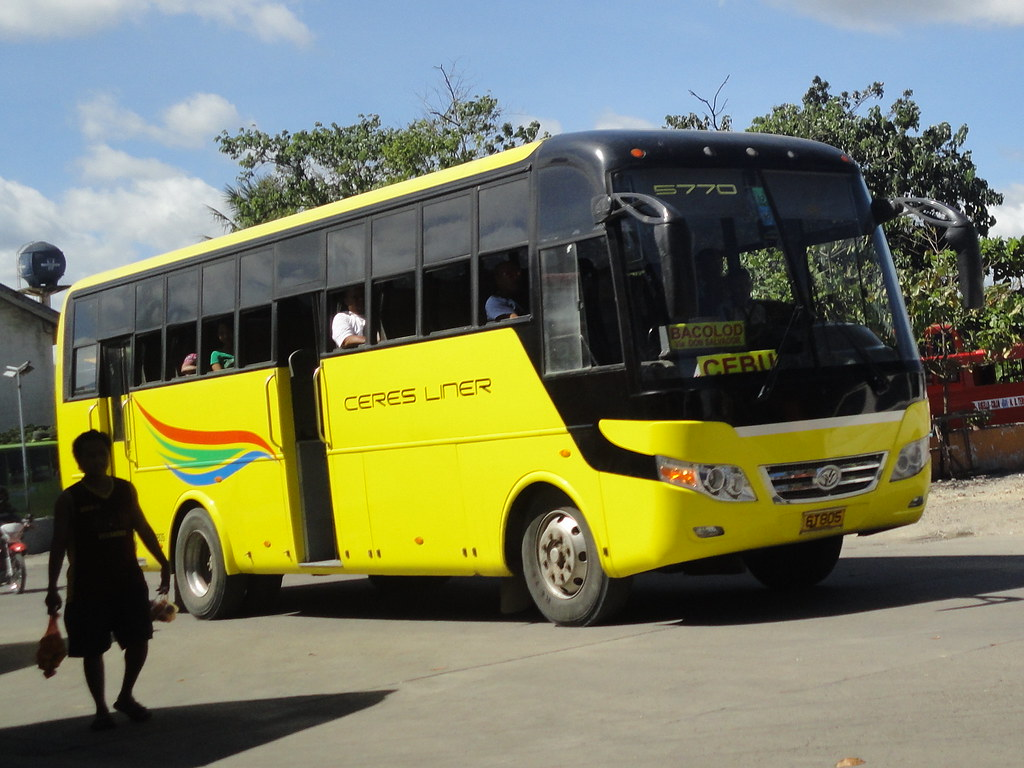Person: (36, 432, 175, 725)
Vehicle: (54, 130, 933, 587)
